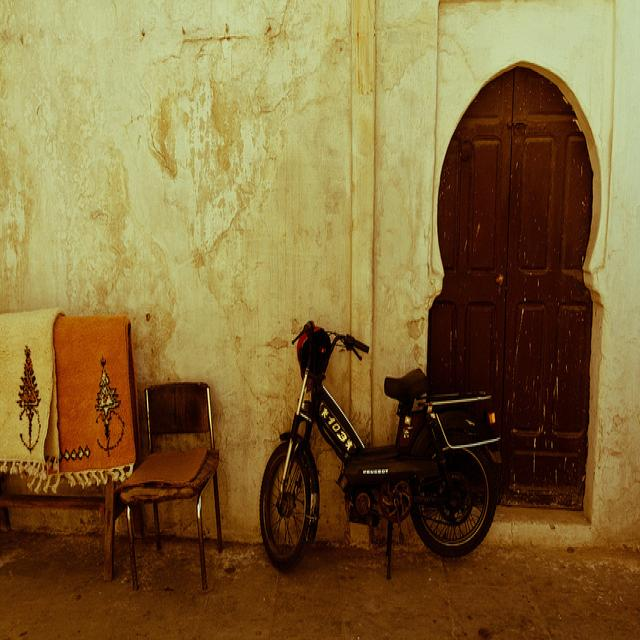motor: (261, 320, 503, 578)
